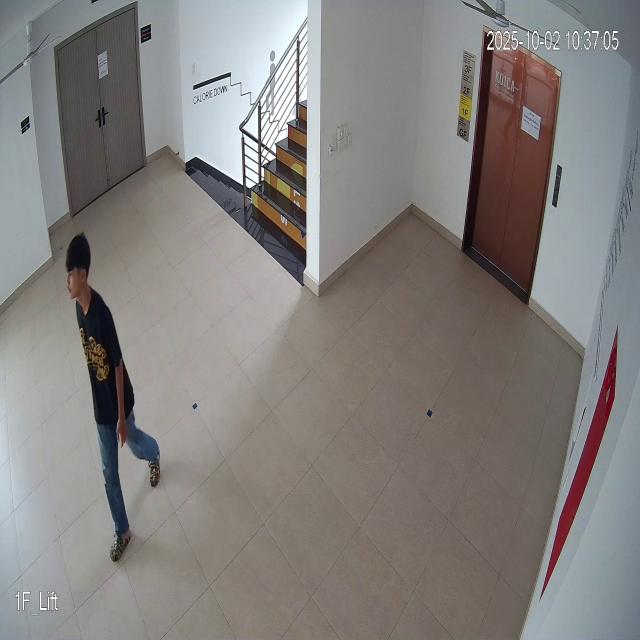face: (62, 229, 92, 304)
